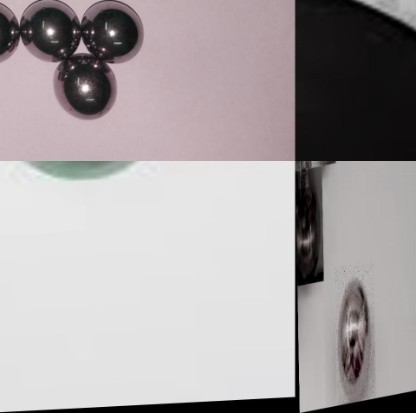ironball: (295, 0, 415, 161), (333, 262, 374, 406), (53, 50, 124, 120), (79, 0, 148, 61), (19, 0, 78, 66), (295, 166, 323, 286), (0, 0, 16, 67), (297, 161, 308, 189), (311, 161, 335, 168)
